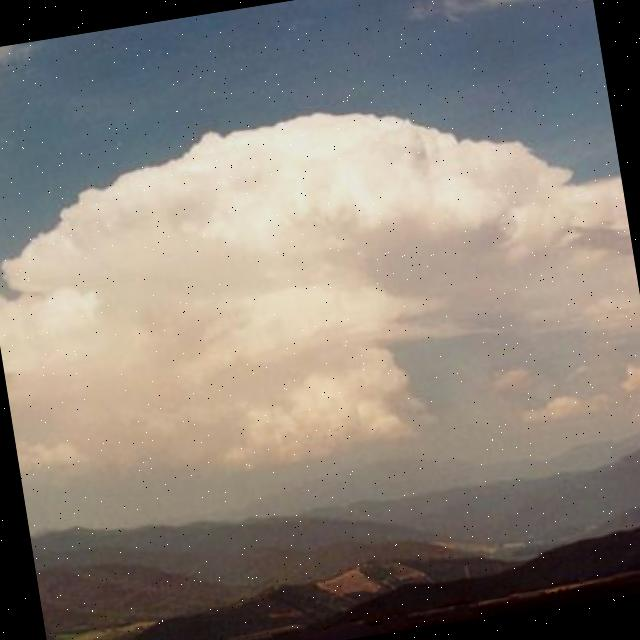Cb: (1, 25, 640, 503)
